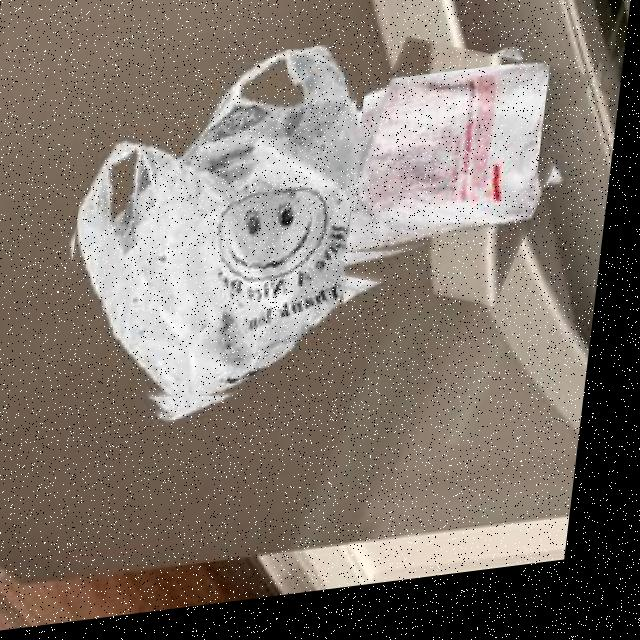plasticcover: (82, 55, 358, 405), (330, 79, 552, 267)
